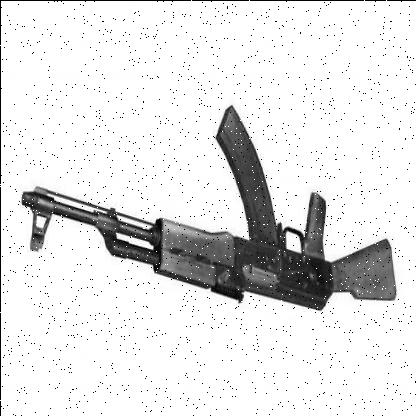rifle: (15, 76, 403, 343)
